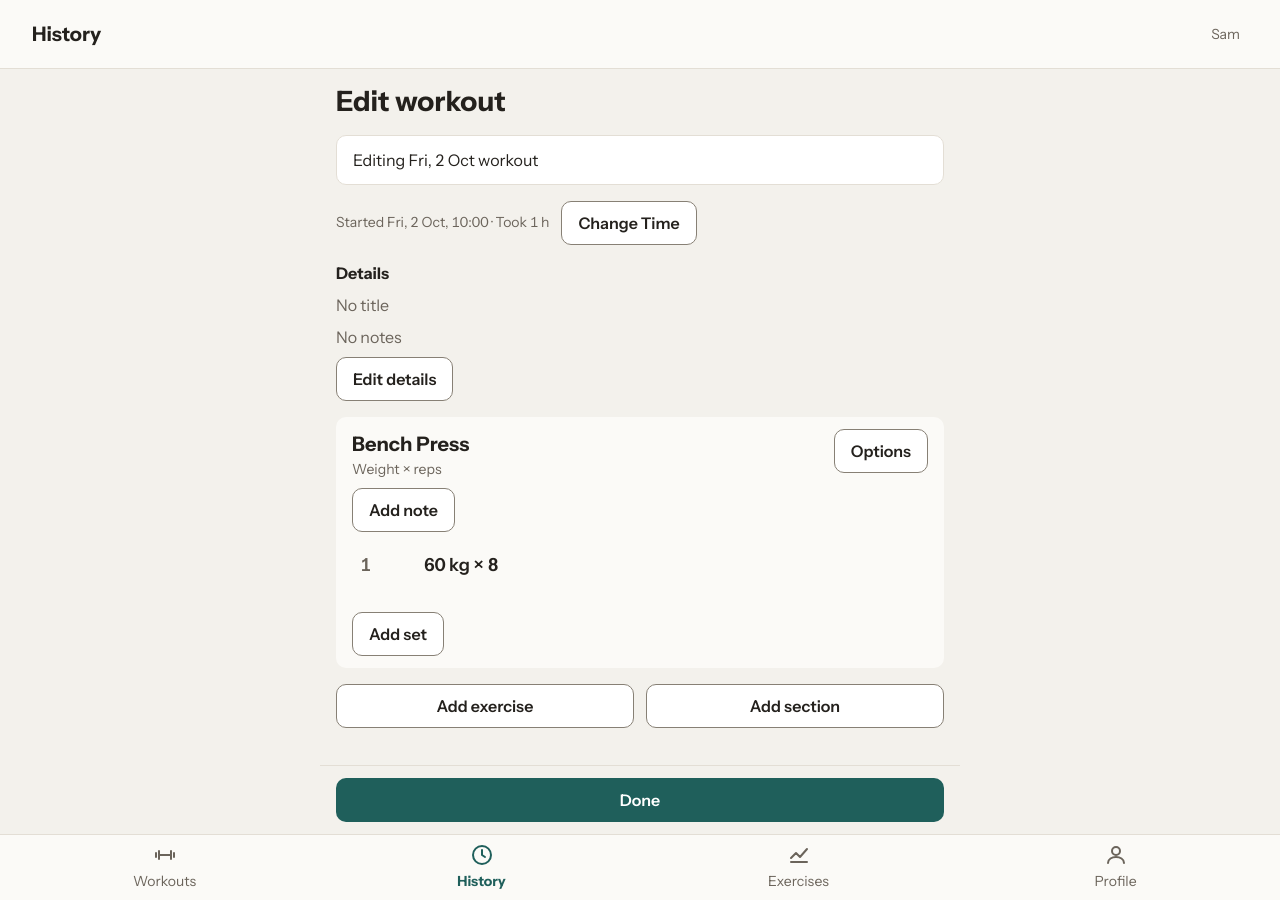
18.0 AC12 — exercise notes wait for the server › offline: the sheet stays open with the typed text and the offline copy
Expected: the heading "Edit workout" is shown, x1=336 y1=84 x2=506 y2=118
Click the button with aria-label "Add note for Bench Press" at (403,510), box x1=352 y1=488 x2=455 y2=532
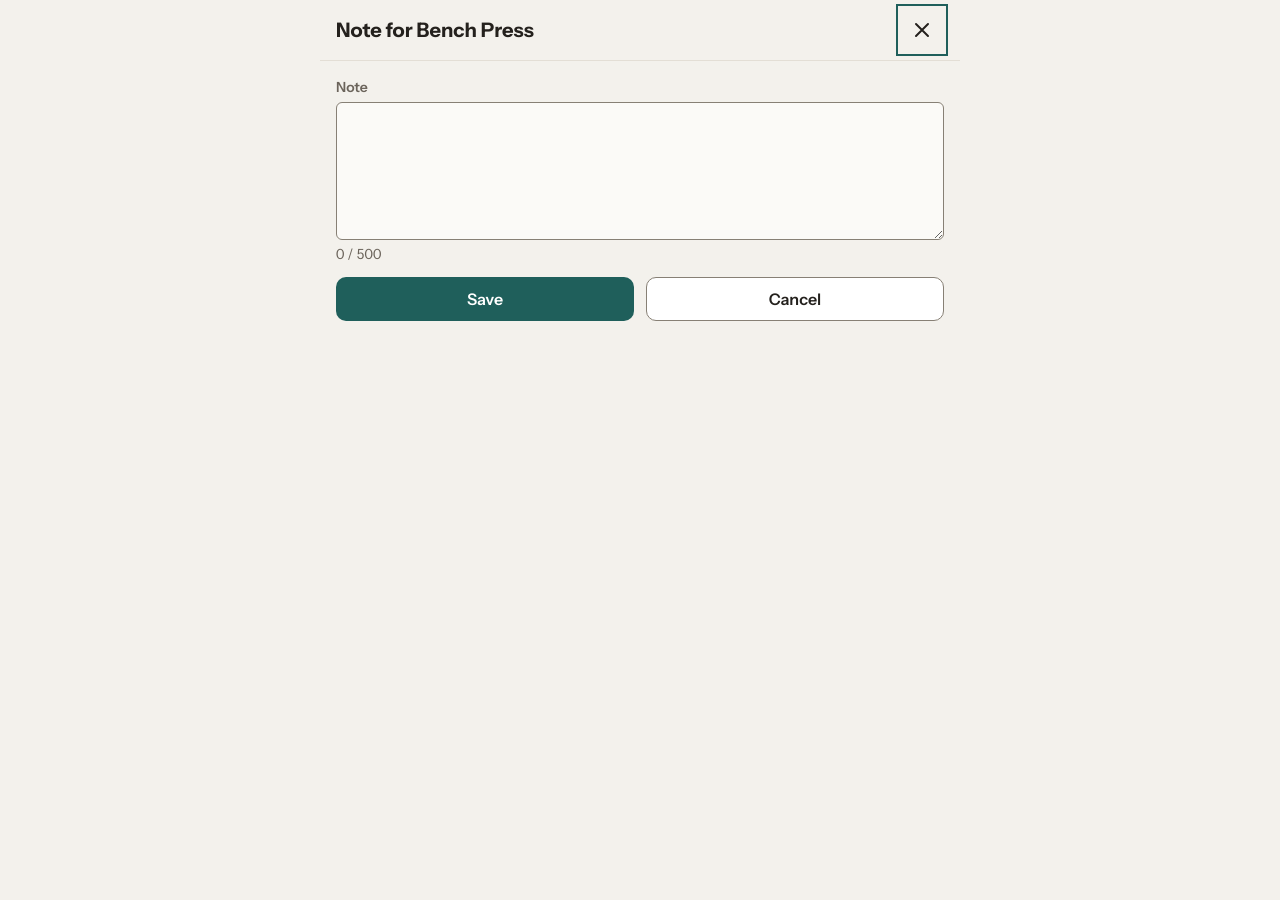
Type "Slow eccentric" into the text box labelled "Note" at (640,171), box x1=336 y1=102 x2=944 y2=240
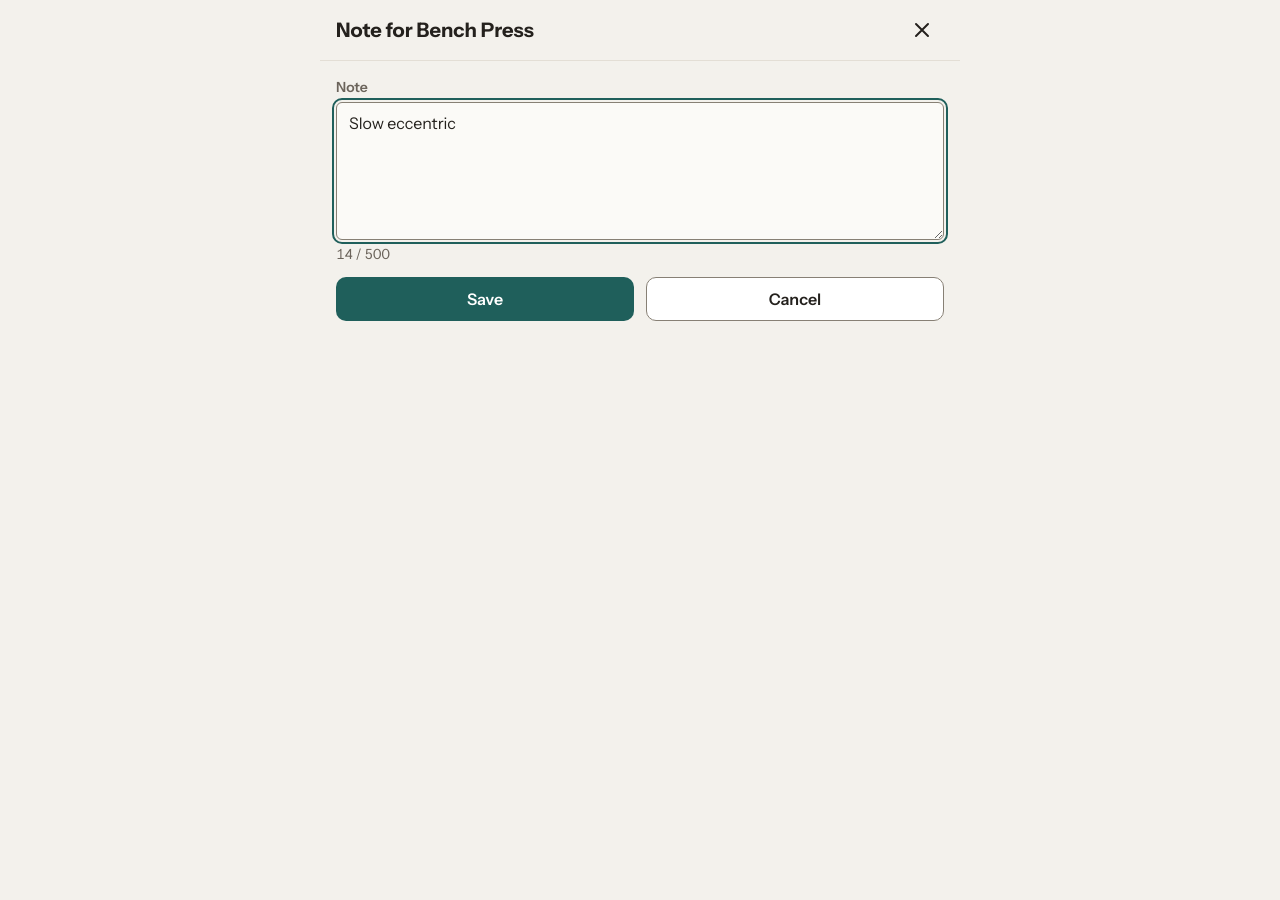
Click the button "Save" at (485,299), box x1=336 y1=277 x2=634 y2=321
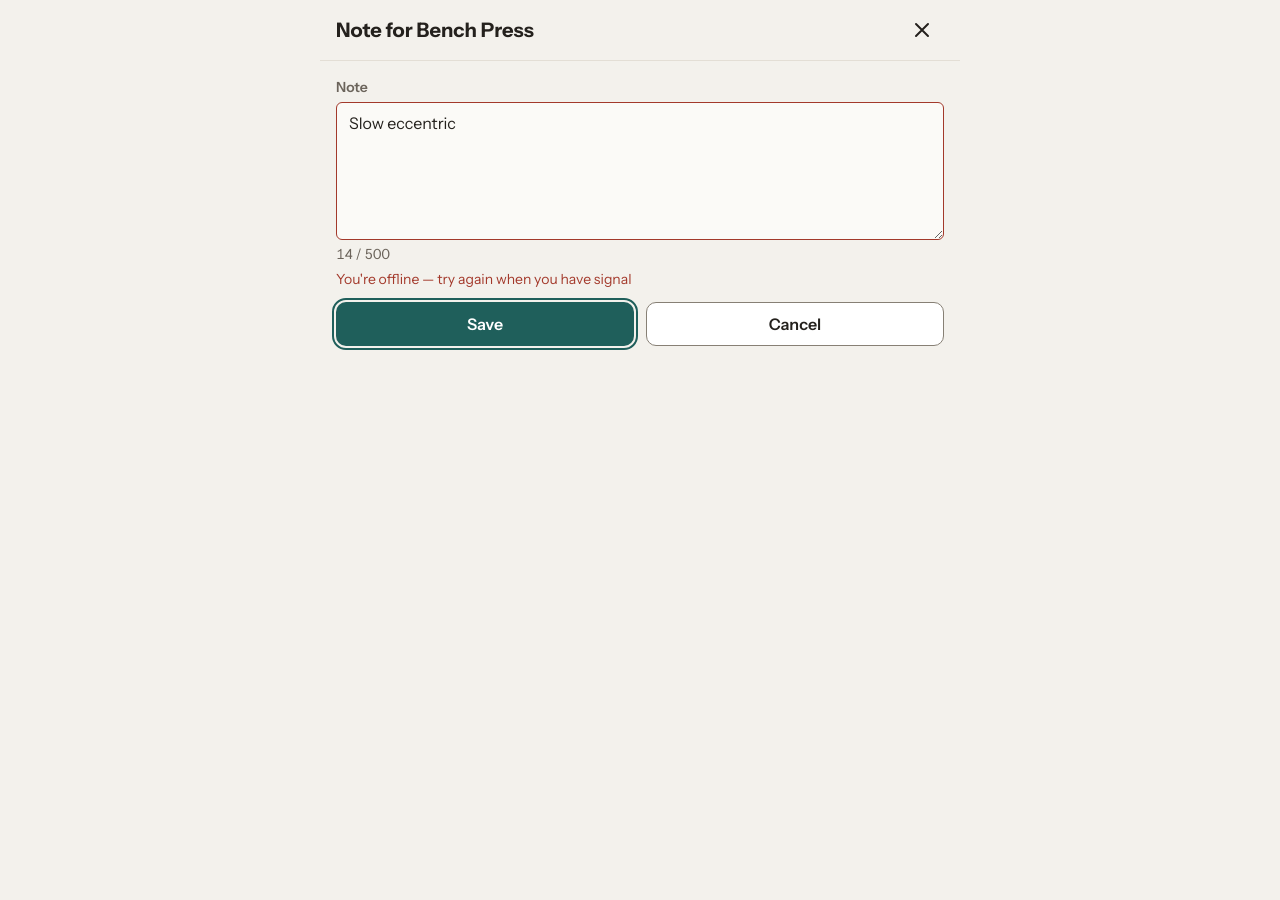
Expected: the text "You're offline — try again when you have signal" is shown, x1=336 y1=270 x2=632 y2=288
